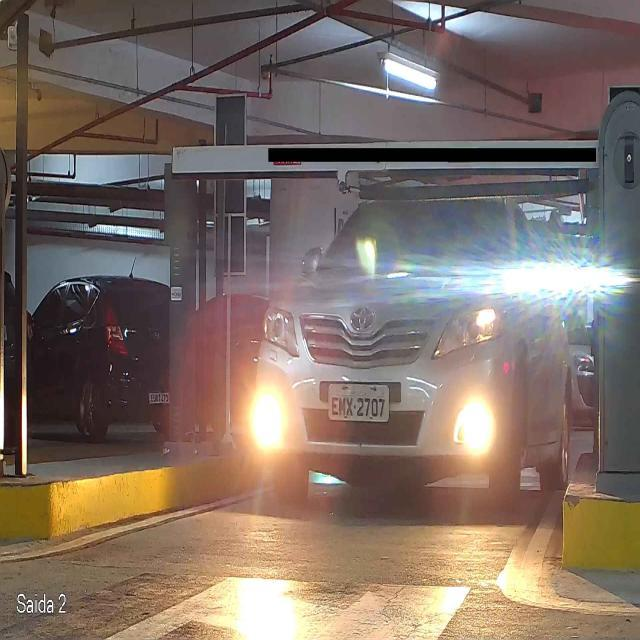old_plate: (327, 382, 391, 424)
